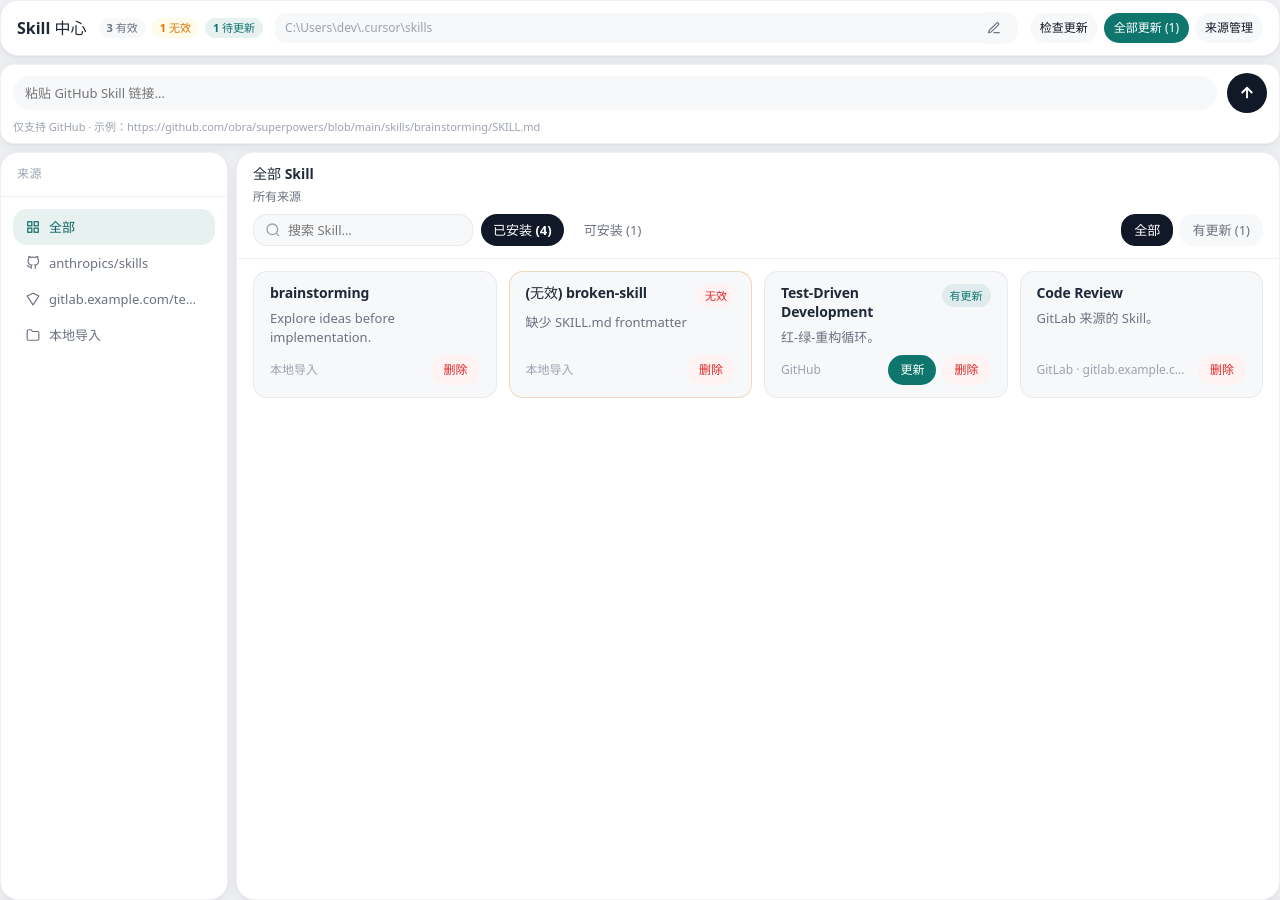
SkillHubPage › switches to discover tab and shows discoverable skills
This screenshot has width=1280, height=900.
Click the tab "可安装 (1)".
click(612, 230)  # box [572,214,653,246]
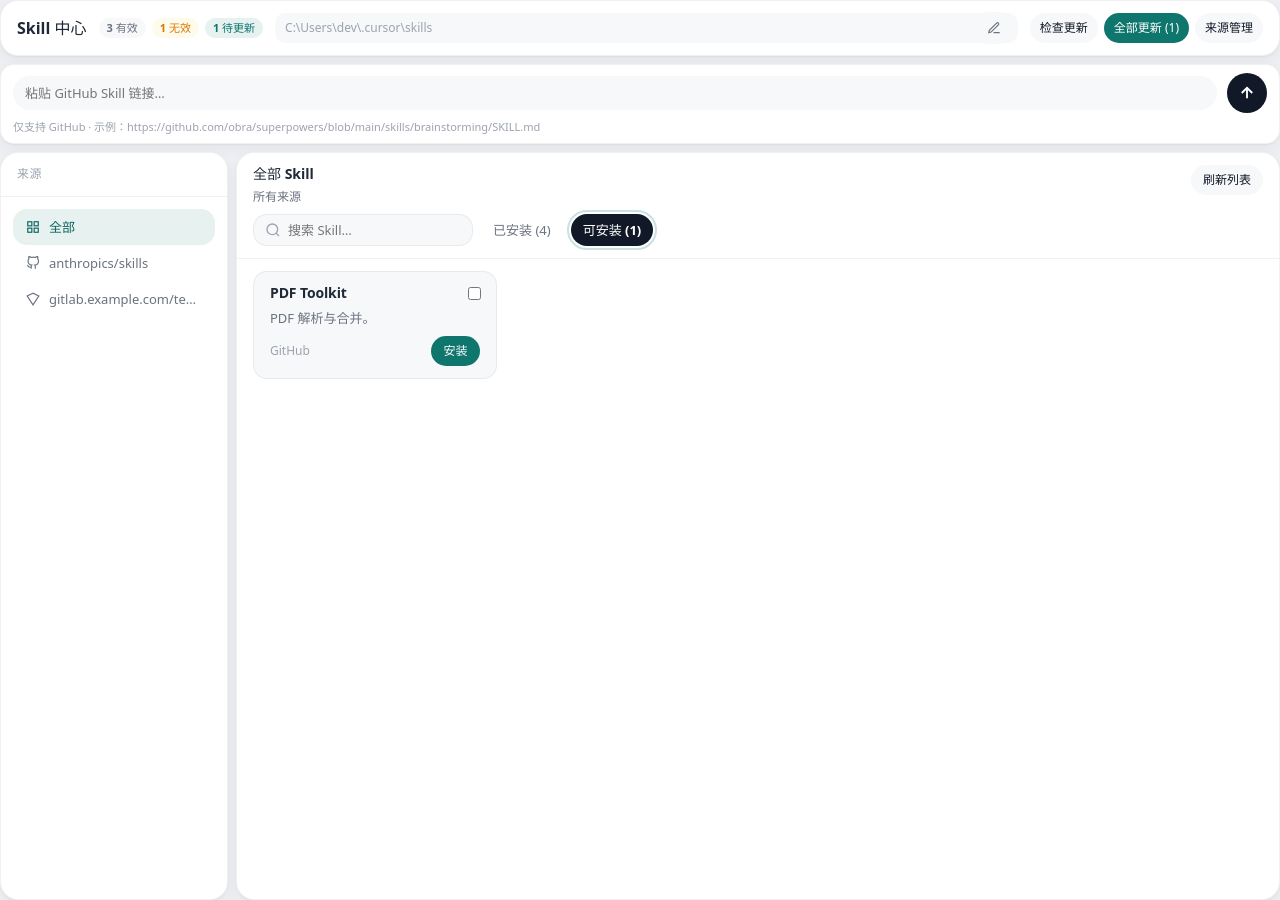
Result: the text "PDF 解析与合并。" is shown at [270,309,376,327]
Result: the button "刷新列表" is shown at [1191,165,1263,195]
